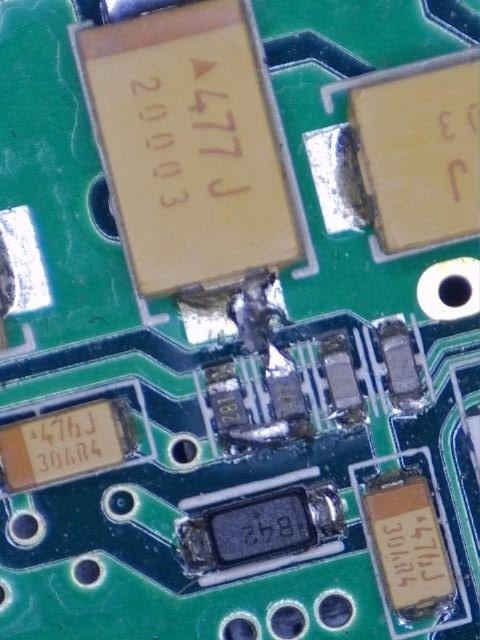pcb_defect: (176, 273, 297, 382), (218, 402, 315, 459)
